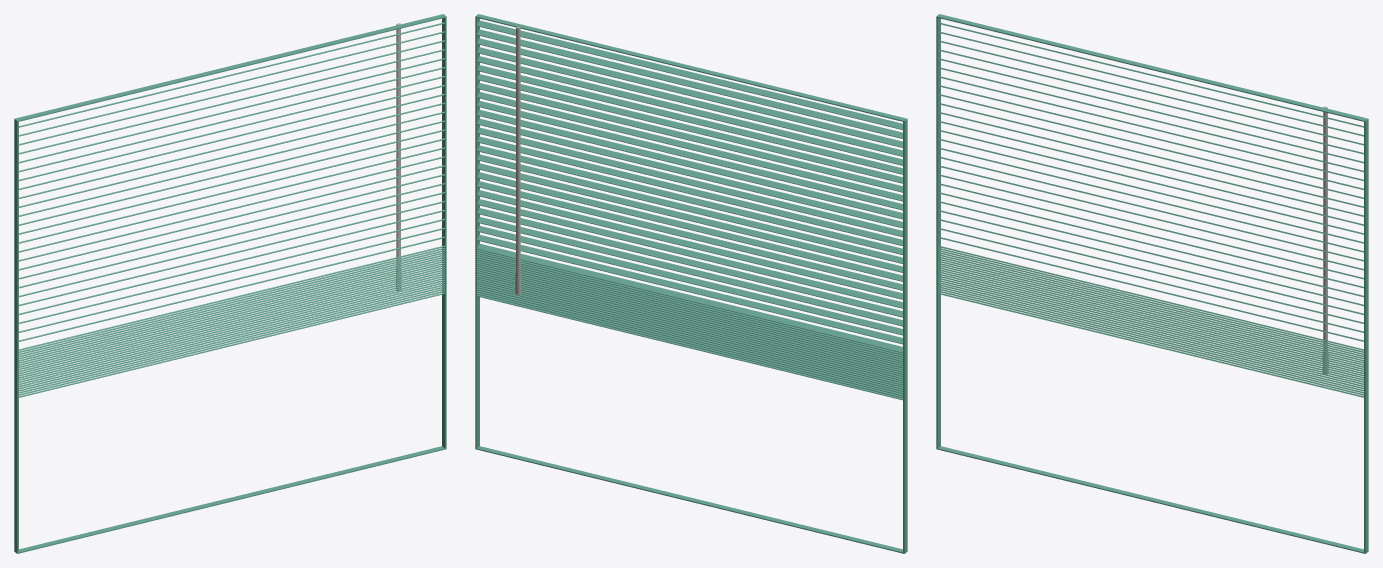
Rendered from vertical_sheet_blinds_02.glb.
The picture shows the model from 3 angles, left to right: view 1: azimuth 30°, elevation 25°; view 2: azimuth 150°, elevation 25°; view 3: azimuth 330°, elevation 25°; orthographic projection.
Parts seen in each view (by area): view 1: polySurface32.001, polySurface20; view 2: polySurface32.001, polySurface20; view 3: polySurface32.001, polySurface20.
Part boxes in pixels (x1,y1,x2,y2): polySurface32.001: [14, 14, 446, 553]; polySurface20: [396, 23, 401, 291]; polySurface32.001: [475, 14, 907, 553]; polySurface20: [515, 27, 521, 294]; polySurface32.001: [936, 14, 1368, 553]; polySurface20: [1322, 106, 1328, 374].
Bounding box in the file's own units: 47.56 × 45.81 × 0.9814.
